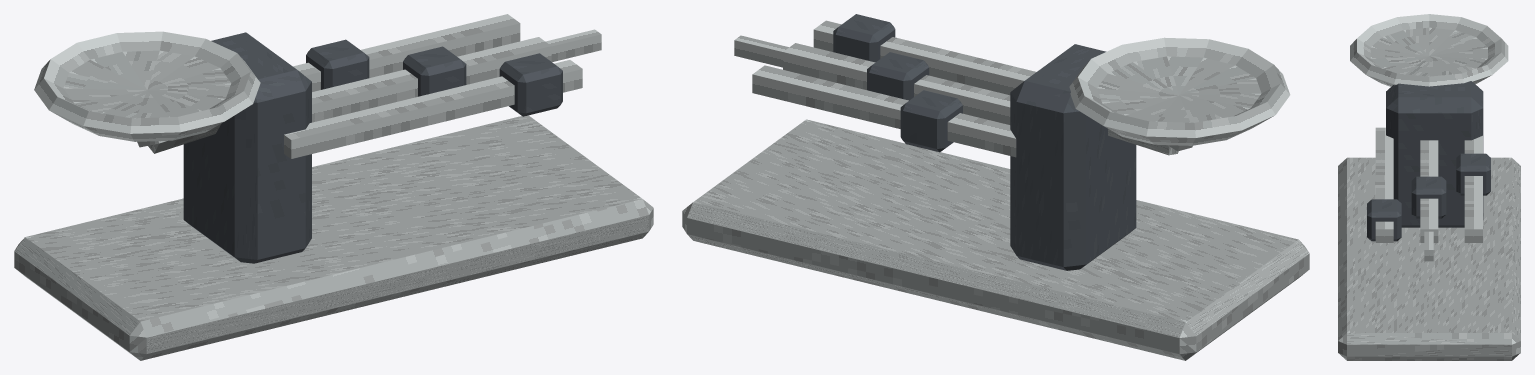
File: balance_small.glb
The picture shows the model from 3 angles, left to right: view 1: azimuth 30°, elevation 25°; view 2: azimuth 150°, elevation 25°; view 3: azimuth 270°, elevation 25°; orthographic projection. The views are drawn at different scales.
Parts seen in each view (by area): view 1: block_weighted scale foot, block_balance support, block_weighing pan, block_scale rule beam (×3), block_sliding mass (×3), block_end pointer, block_pan linkage 0; view 2: block_weighted scale foot, block_balance support, block_weighing pan, block_scale rule beam (×3), block_sliding mass (×3), block_end pointer; view 3: block_weighted scale foot, block_weighing pan, block_balance support, block_scale rule beam (×3), block_sliding mass (×3), block_end pointer.
Boxes of the visible parts, x1,y1,x2,y2 form: block_weighted scale foot: (14,115,653,360); block_balance support: (183,32,311,263); block_weighing pan: (34,31,260,141); block_scale rule beam (×3): (284,14,582,158); block_sliding mass (×3): (306,39,562,116); block_end pointer: (545,29,601,62); block_pan linkage 0: (148,123,221,153); block_weighted scale foot: (682,119,1309,360); block_balance support: (1010,44,1136,270); block_weighing pan: (1069,37,1290,145); block_scale rule beam (×3): (752,20,1036,157); block_sliding mass (×3): (833,14,962,152); block_end pointer: (734,35,788,67); block_weighted scale foot: (1338,157,1520,360); block_weighing pan: (1350,14,1508,86); block_balance support: (1386,81,1483,227); block_scale rule beam (×3): (1375,127,1482,242); block_sliding mass (×3): (1367,153,1490,241); block_end pointer: (1424,231,1433,261).
Size of the model in its own units: 0.2394 by 0.0951 by 0.0967.
Materials: 1 (1 with a texture image).
